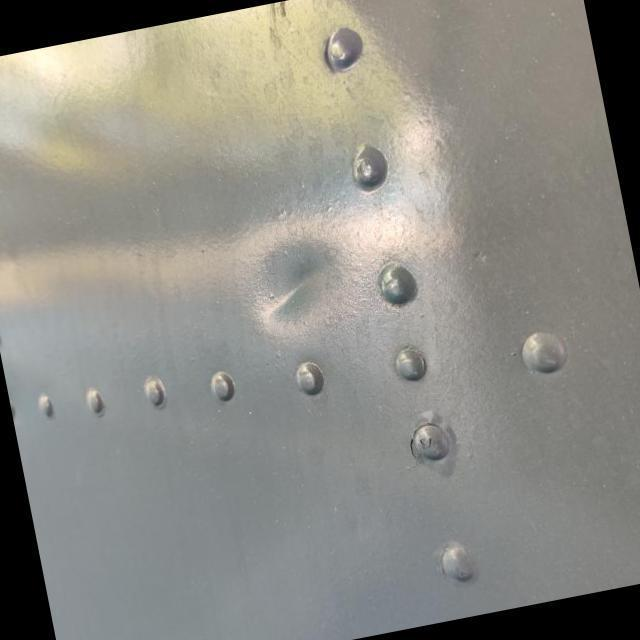dent: (240, 220, 362, 340)
